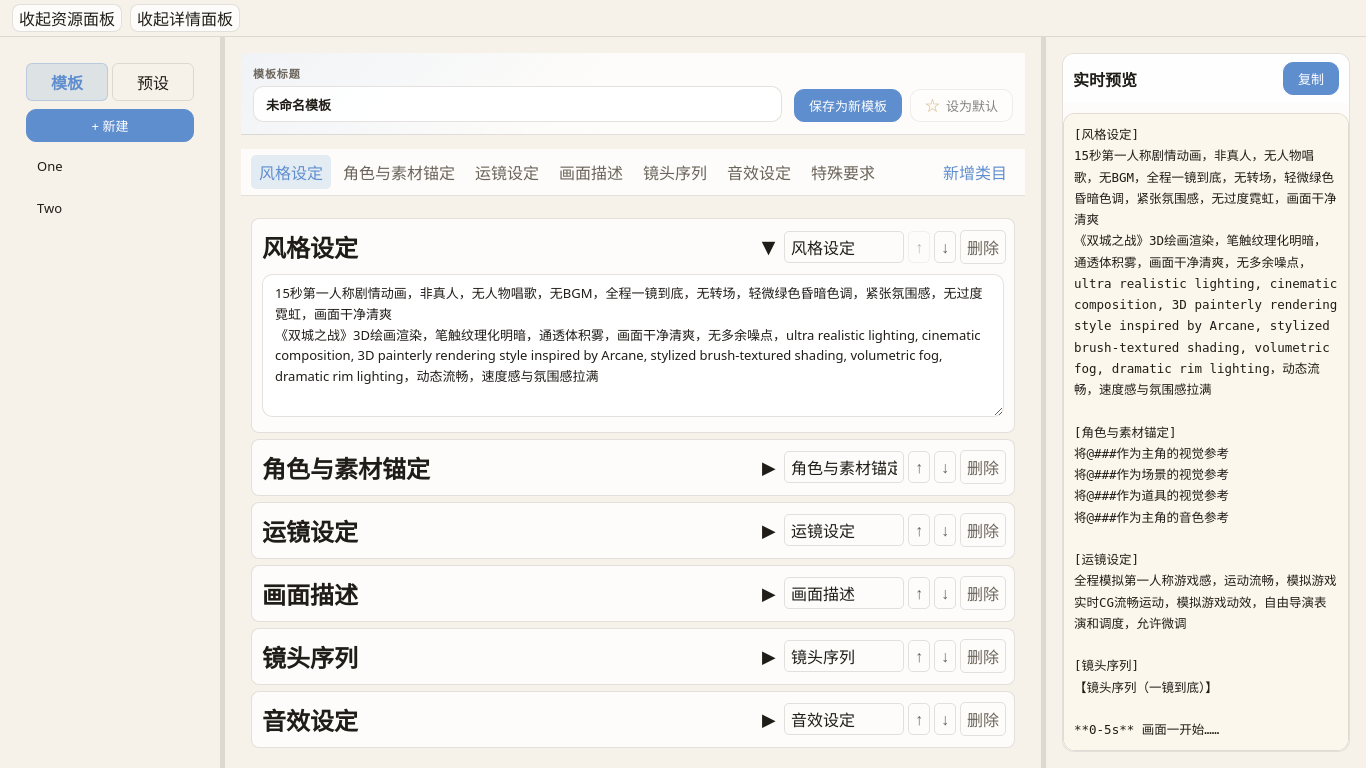
Test: Seedance2 workspace › requires saving template changes before setting the template as default
Click the button "One": x=110, y=166 [26, 148, 194, 184]
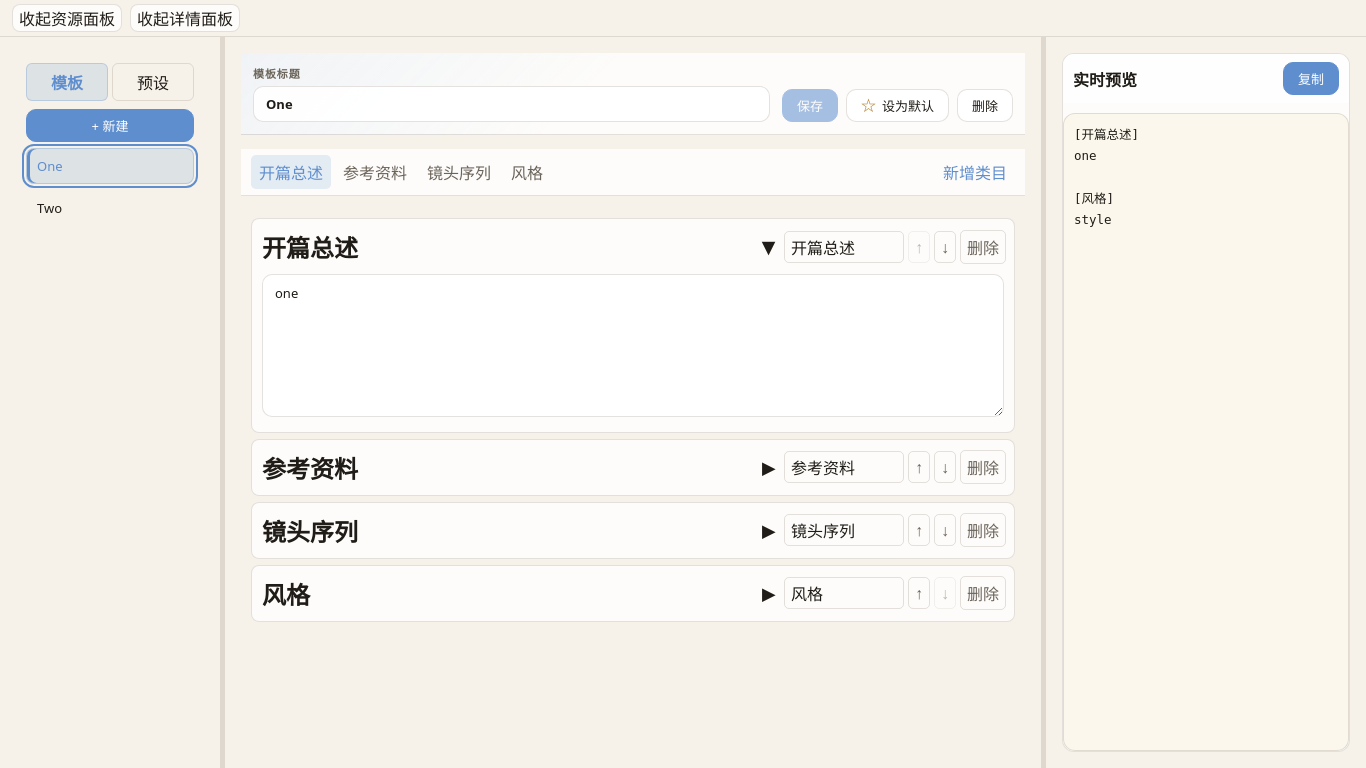
In the text box named "开篇总述内容": x=633, y=345 [262, 274, 1004, 417], type " changed"
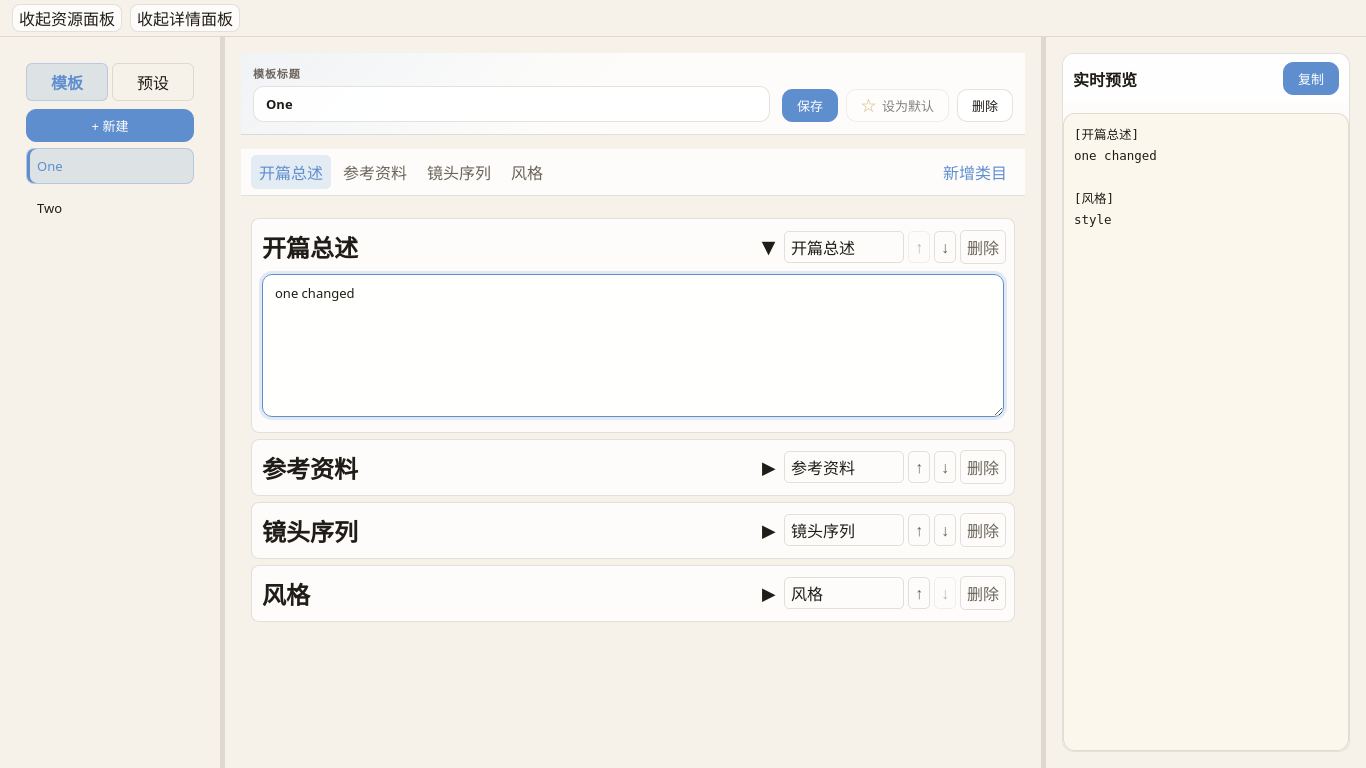
expect the button "☆ 设为默认" is disabled: met, box [846, 89, 949, 122]
